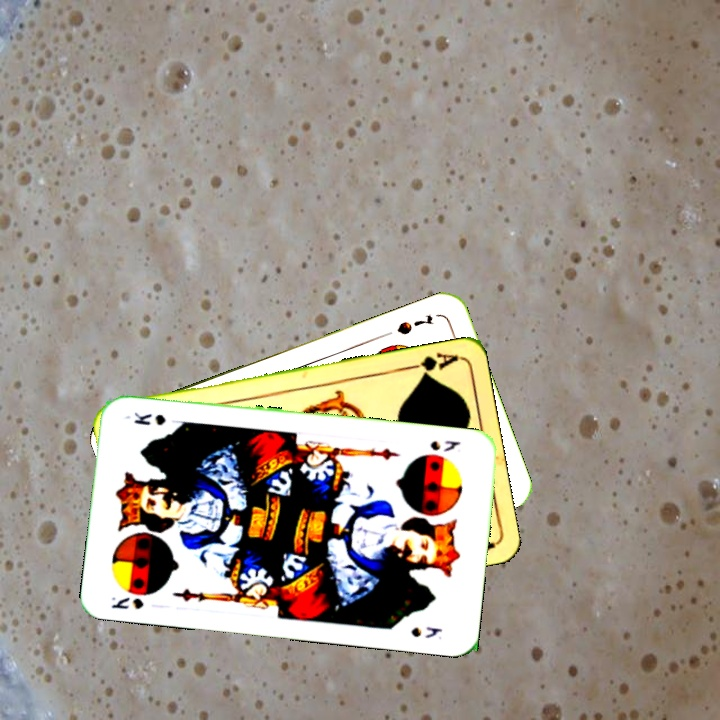GA: (402, 349, 460, 380)
S7: (393, 311, 436, 338)
SK: (107, 593, 146, 612), (426, 436, 464, 454)
